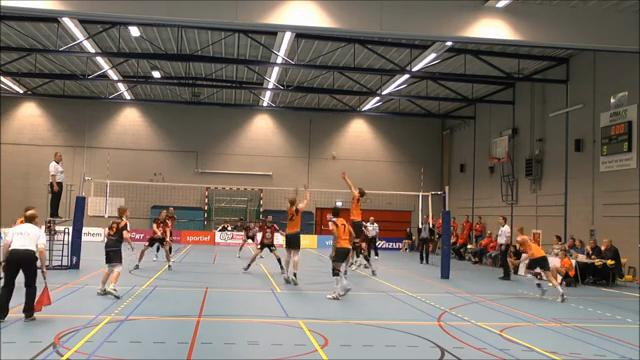Player: (517, 227, 565, 301), (97, 206, 134, 298), (283, 185, 309, 284), (327, 207, 354, 299), (243, 215, 284, 274), (134, 210, 171, 269), (236, 222, 258, 257), (166, 207, 176, 255), (14, 206, 34, 225)
Set: (336, 169, 375, 271)
ball: (331, 151, 340, 162)
